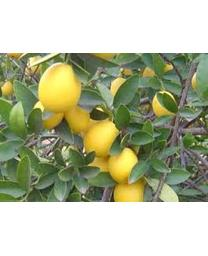lemon: (38, 61, 82, 112), (84, 122, 122, 158), (108, 146, 139, 184)
